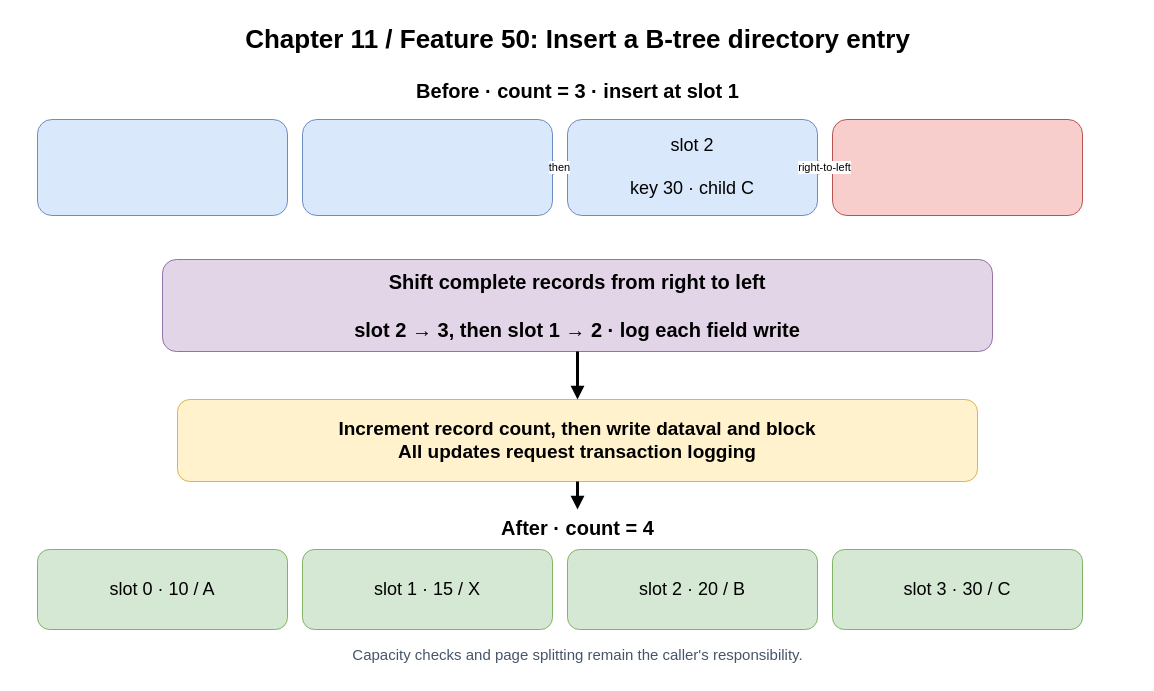
Image size: 1154x691. Some labels were removed from this diagram. The shapes that lost their labels are listed below. From the top down, each one's centre as x and y in pixels, then its label:
the point at 162,167: slot 0 key 10 · child A
the point at 427,167: slot 1 key 20 · child B
the point at 957,167: slot 3 unused
